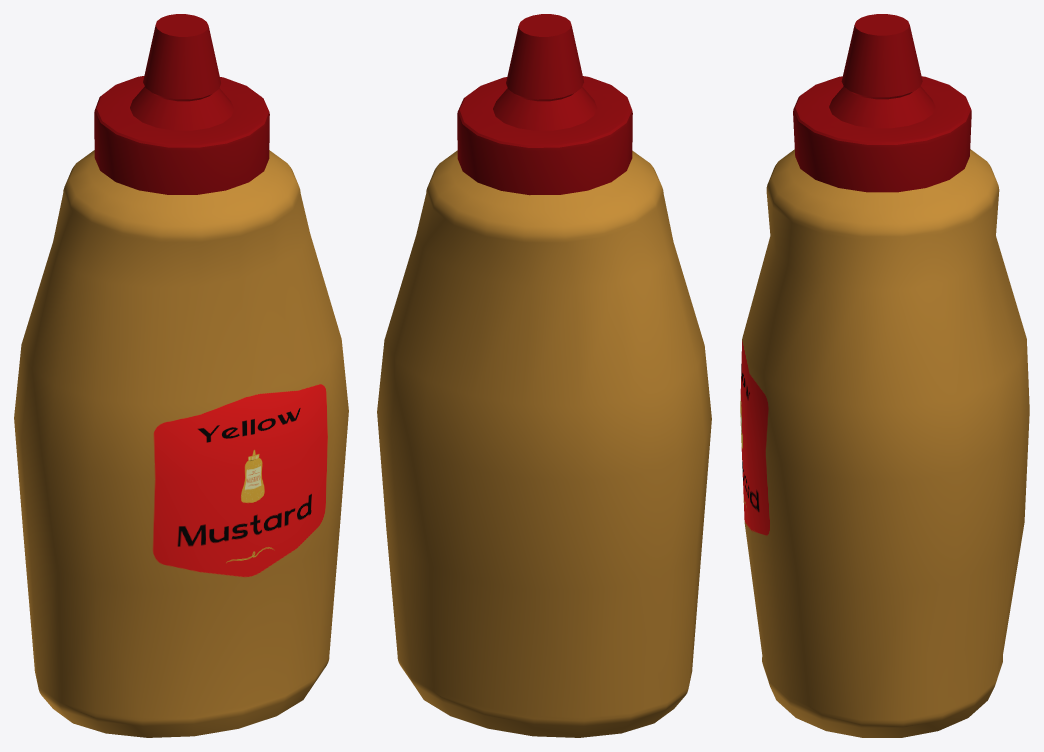
Rendered from Mustard.fbx.
3 renders of one model, left to right at view 1: azimuth 30°, elevation 25°; view 2: azimuth 150°, elevation 25°; view 3: azimuth 270°, elevation 25°, orthographic.
Parts seen in each view (by area): view 1: Mustard; view 2: Mustard; view 3: Mustard.
Part boxes in pixels (x1,y1,x2,y2): Mustard: (14,14,348,737); Mustard: (377,14,711,737); Mustard: (740,14,1029,737).
Bounding box in the file's own units: 7.59 × 16.34 × 6.54.
1 material, 1 textured.
